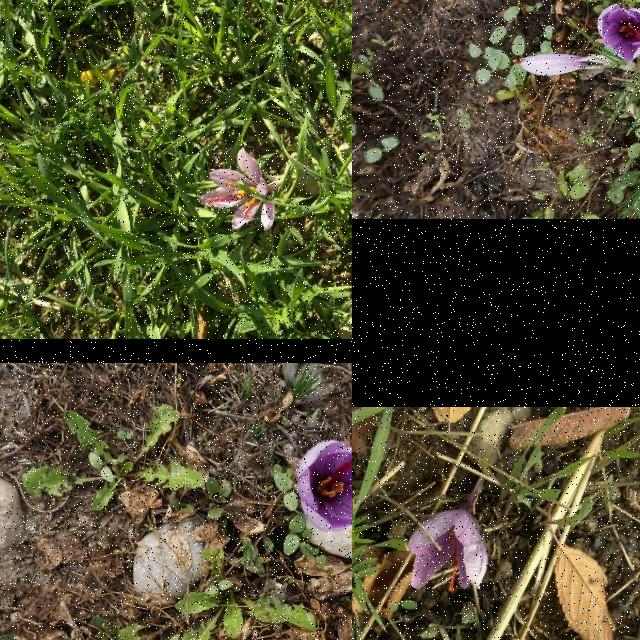flower: (408, 504, 488, 594), (198, 148, 276, 230), (296, 439, 352, 533), (597, 3, 640, 64), (512, 54, 596, 76)
